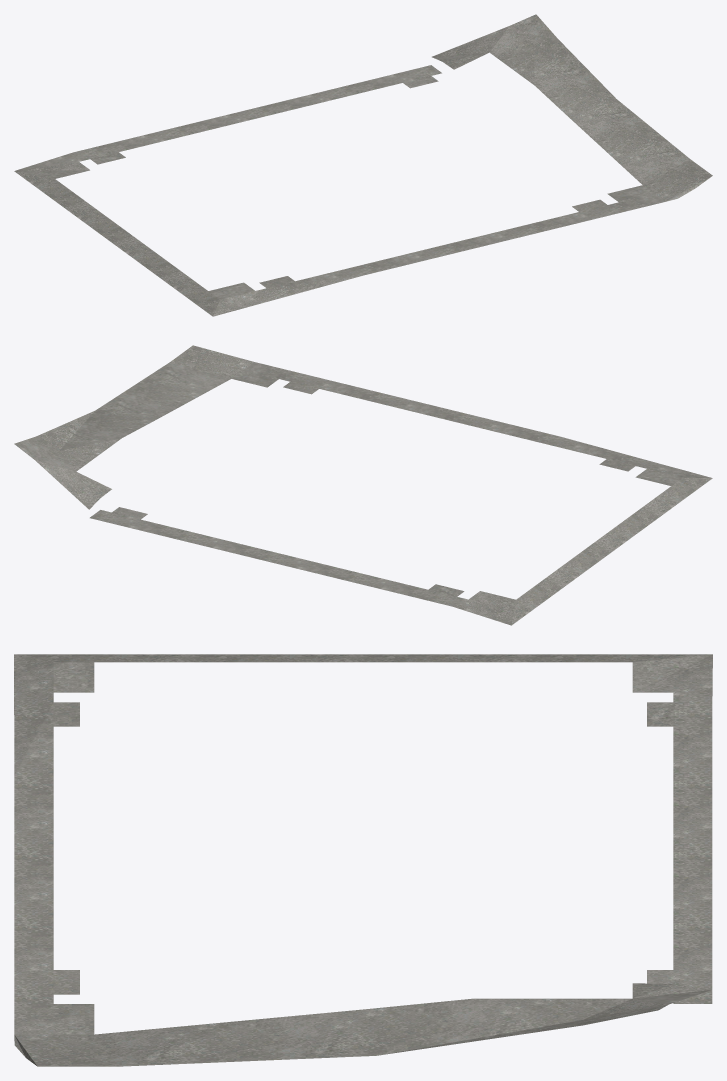
Rendered from road34_sfe.obj.
3 views of the same model, one above another, from view 1: azimuth 30°, elevation 25°; view 2: azimuth 150°, elevation 25°; view 3: azimuth 270°, elevation 25° (orthographic). The views are drawn at different scales.
Visible parts, largest first — view 1: road34_sfe; view 2: road34_sfe; view 3: road34_sfe.
Part boxes in pixels (x1,y1,x2,y2): road34_sfe: [14, 14, 712, 316]; road34_sfe: [14, 345, 712, 625]; road34_sfe: [14, 654, 712, 1066].
Bounding box in the file's own units: 61.12 × 5.13 × 41.56.
Materials: 1 (1 with a texture image).
